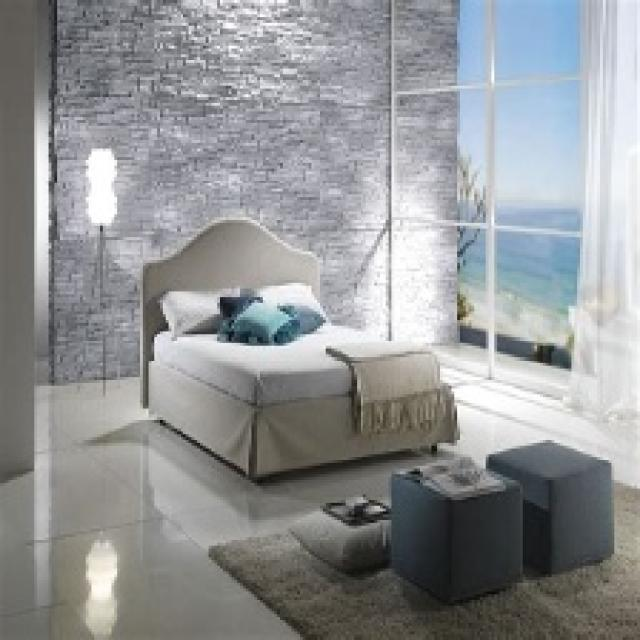Bed: (137, 214, 457, 483)
